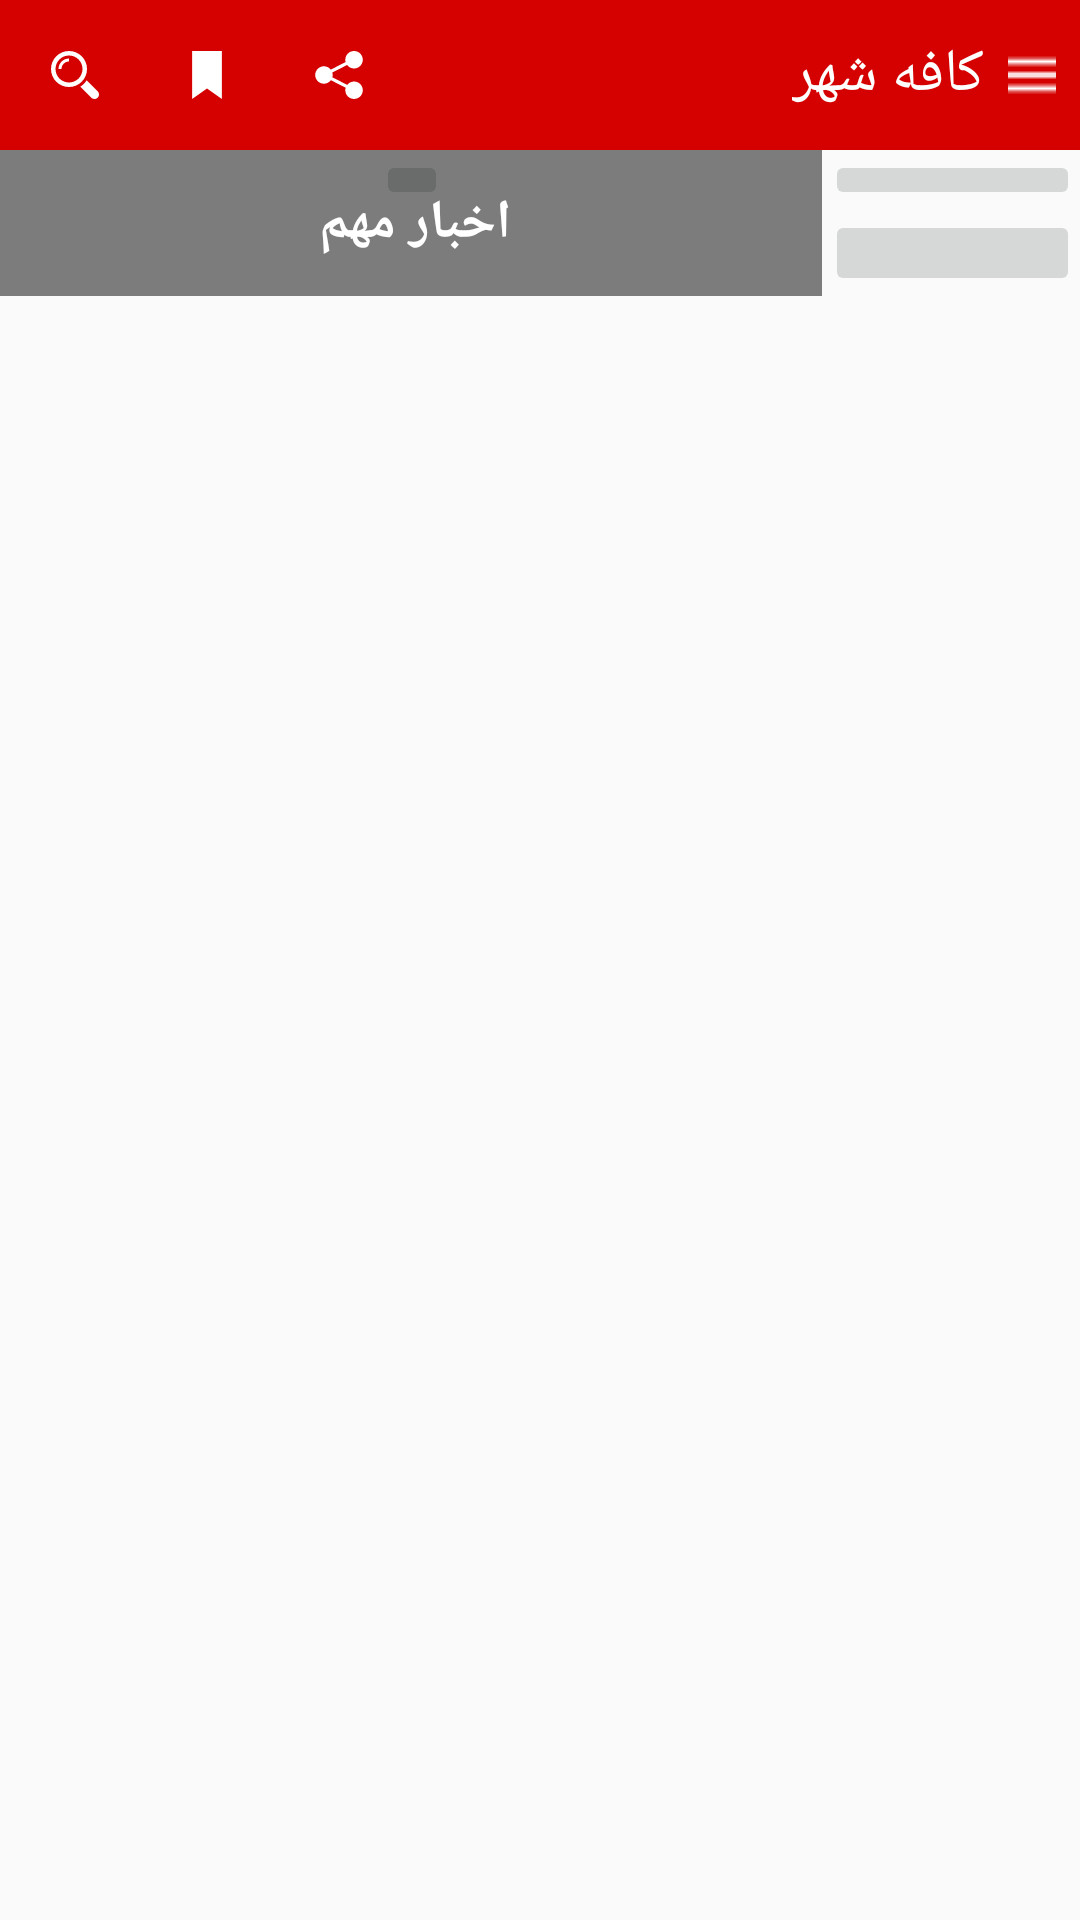

Where to tap for icons on this 1080×1920 app screen, as (x=x, y=y):
bookmark: (x=207, y=75)
menu: (x=1032, y=75)
search: (x=75, y=75)
share: (x=339, y=75)
